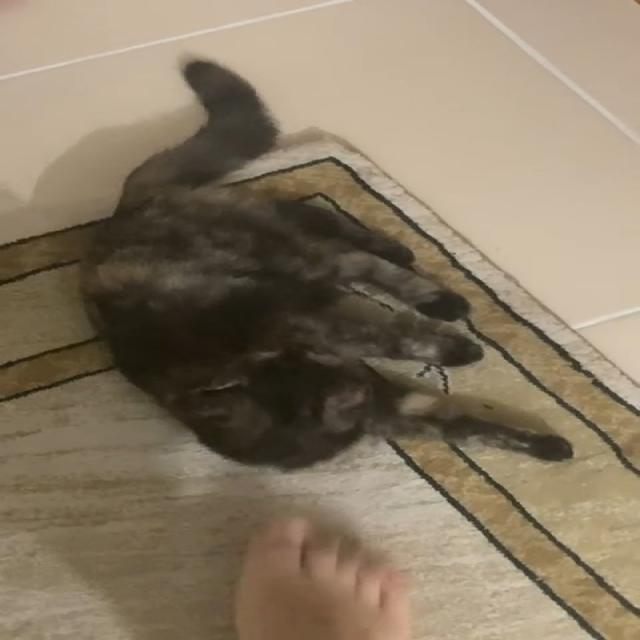authorized: (76, 52, 575, 473)
